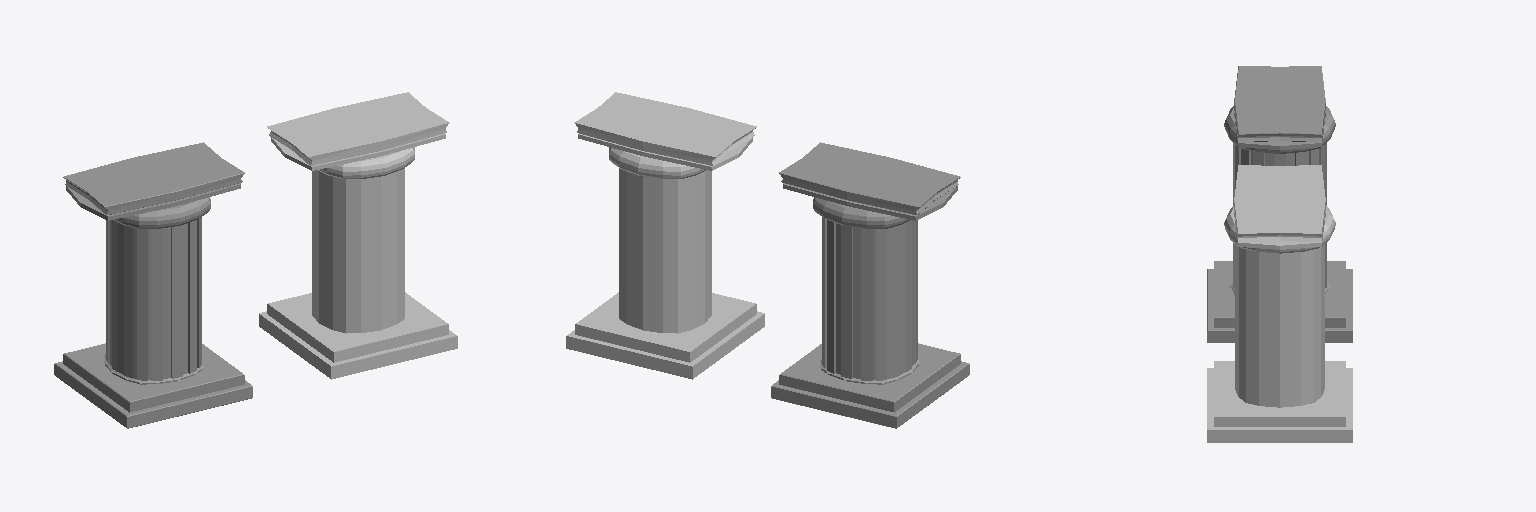
Rendered from pieddestale.obj.
3 renders of one model, left to right at view 1: azimuth 30°, elevation 25°; view 2: azimuth 150°, elevation 25°; view 3: azimuth 270°, elevation 25°, orthographic.
Parts seen in each view (by area): view 1: Cube, Cube.001; view 2: Cube, Cube.001; view 3: Cube.001, Cube.
Boxes of the visible parts, x1,y1,x2,y2 form: Cube: [54, 142, 252, 428]; Cube.001: [259, 92, 457, 379]; Cube: [771, 142, 969, 428]; Cube.001: [566, 92, 764, 379]; Cube.001: [1207, 165, 1352, 442]; Cube: [1207, 66, 1352, 342].
Bounding box in the file's own units: 6.1 × 3.54 × 2.2.